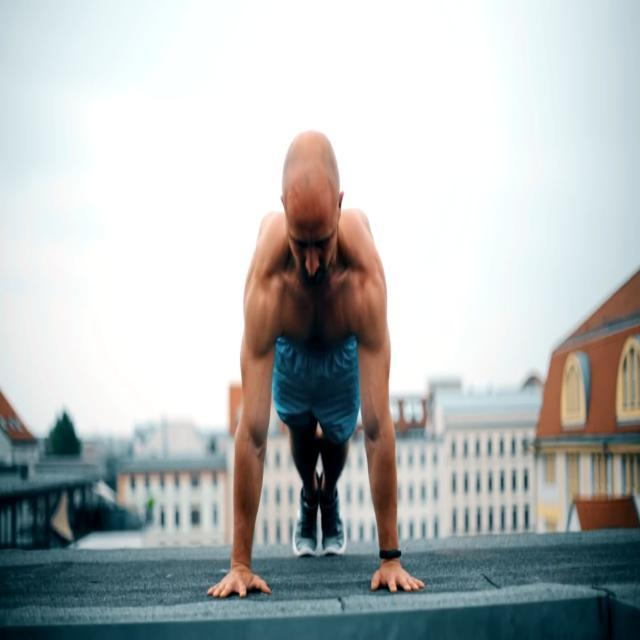9_cabeza_baja: (282, 128, 346, 286)
